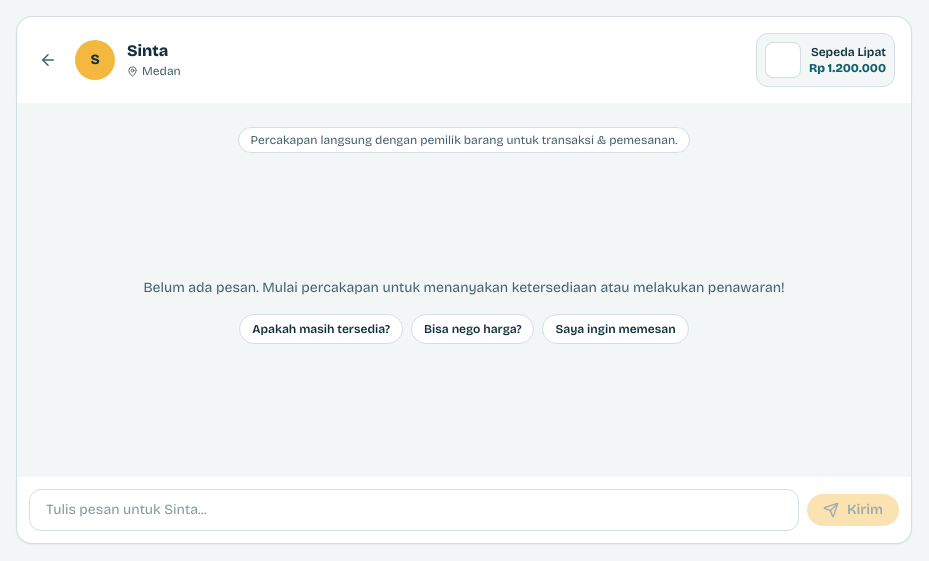
Test: ChatPage › mengirim pertanyaan cepat sebagai tamu (nama 'Saya')
The width and height of the screenshot is (929, 561).
Expected: the heading "Sinta" is shown, top-left (127, 41), bottom-right (168, 60)
Expected: the text "Belum ada pesan" is shown, top-left (143, 279), bottom-right (784, 296)
Click the button "Apakah masih tersedia?": (321, 329) top-left (239, 314), bottom-right (403, 344)
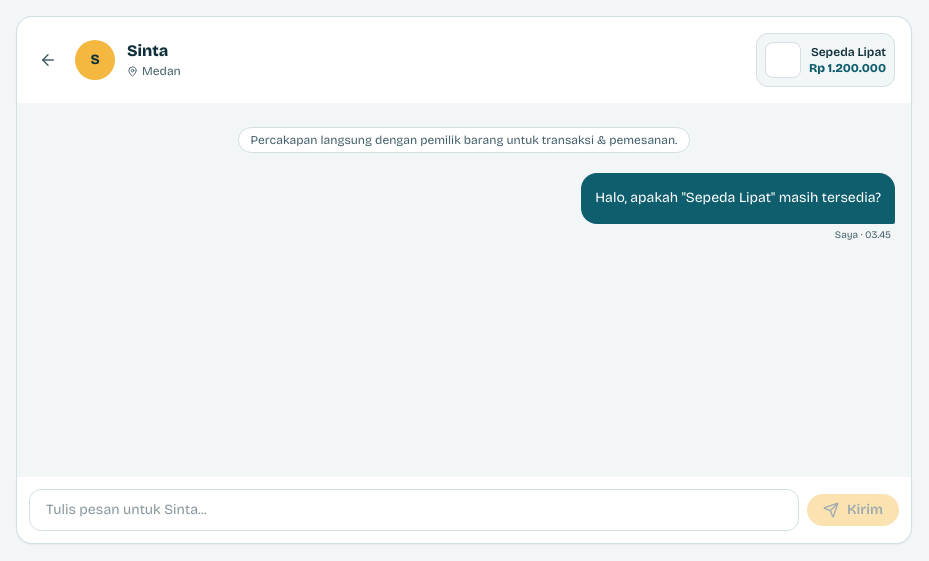
Expected: the text "Halo, apakah \"Sepeda Lipat\" masih tersedia?" is shown, top-left (595, 187), bottom-right (881, 210)
Expected: the text "Saya · 03.45" is shown, top-left (831, 228), bottom-right (895, 243)
